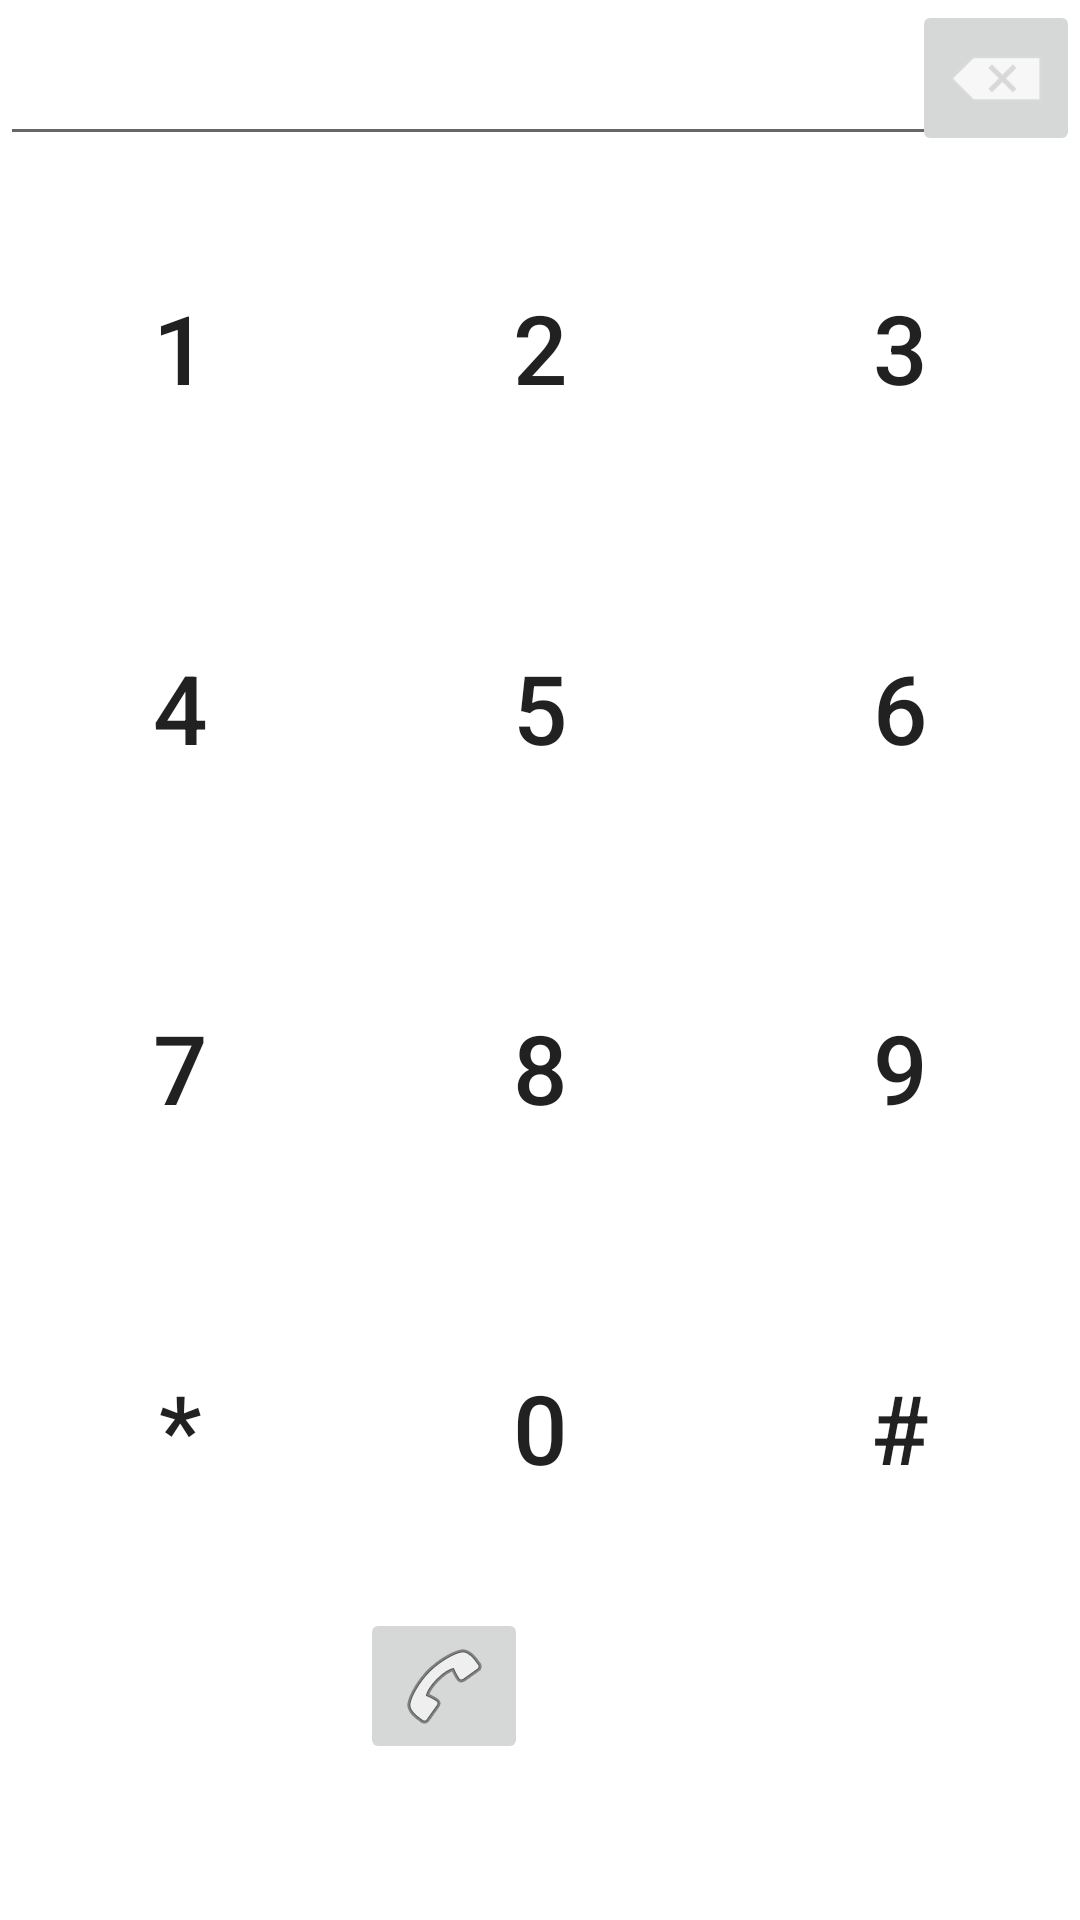

Named icons in this screenshot (1080×1920) and their bounding boxes, (x1, y1, x2, y2):
Call Button: (372, 1626, 516, 1746)
Delete Text: (912, 18, 1068, 138)
